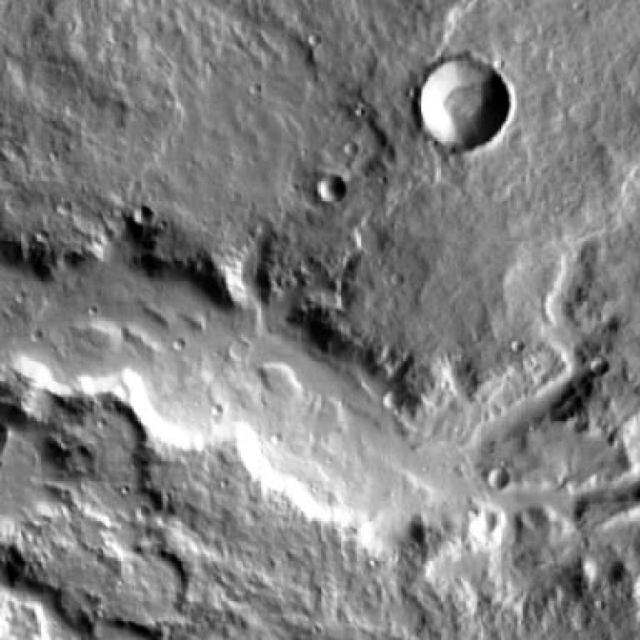crater: (417, 61, 511, 153), (316, 176, 344, 202), (472, 512, 496, 534), (488, 467, 510, 490), (378, 392, 398, 410), (587, 356, 605, 375), (134, 207, 152, 225)
